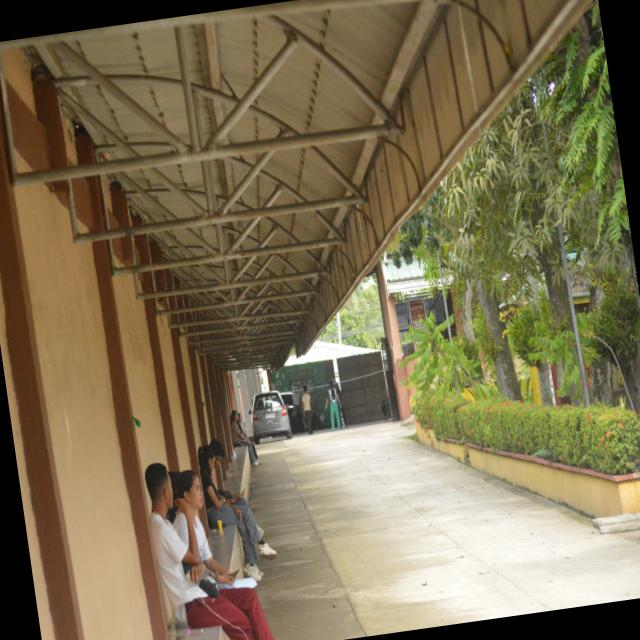person: (144, 463, 272, 639), (197, 446, 275, 580), (230, 411, 258, 467), (325, 381, 340, 430), (300, 386, 312, 434)
